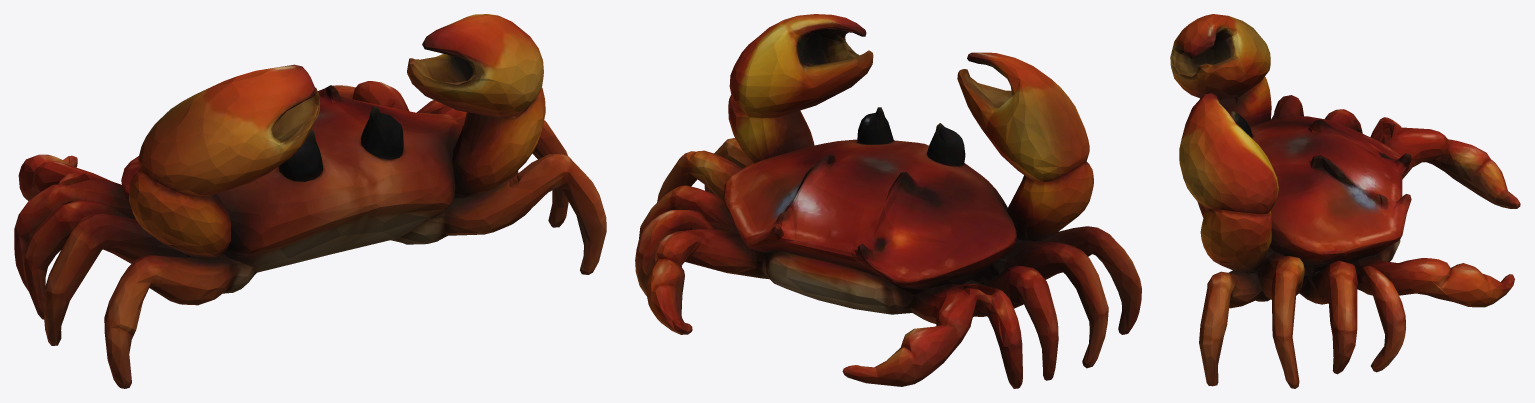
3 views of the same model, side by side, from view 1: azimuth 30°, elevation 25°; view 2: azimuth 150°, elevation 25°; view 3: azimuth 270°, elevation 25° (orthographic). The views are drawn at different scales.
Parts seen in each view (by area): view 1: world; view 2: world; view 3: world.
Boxes of the visible parts, left/top/right/bottom form: world: left=14, top=14, right=606, bottom=388; world: left=635, top=14, right=1141, bottom=388; world: left=1170, top=14, right=1520, bottom=388.
Size of the model in its own units: 0.9988 by 0.5196 by 0.7047.
Materials: 1 (1 with a texture image).
